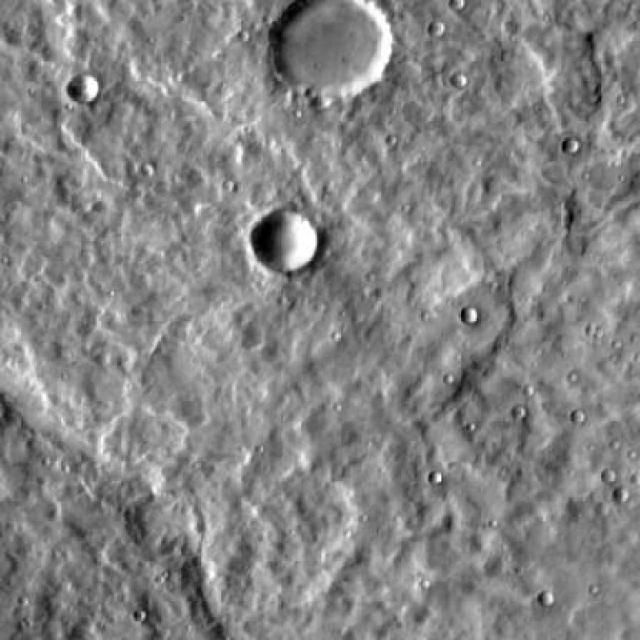crater: (274, 0, 398, 111), (257, 215, 326, 280), (67, 72, 101, 103), (428, 19, 447, 36), (460, 306, 478, 323), (561, 138, 579, 154)
